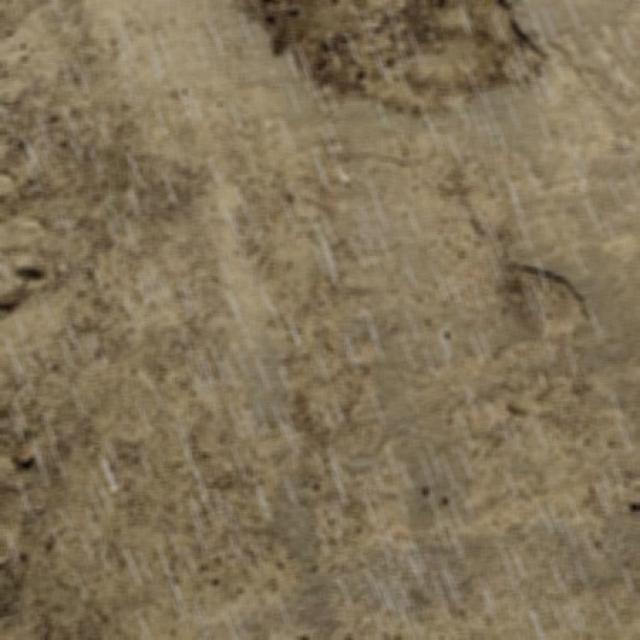road-pothole: (235, 2, 562, 111)
